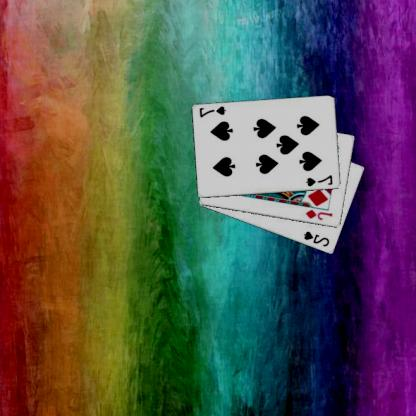2S: (303, 229, 332, 248)
7S: (305, 172, 336, 188), (198, 104, 229, 119)
JD: (304, 207, 336, 221)
